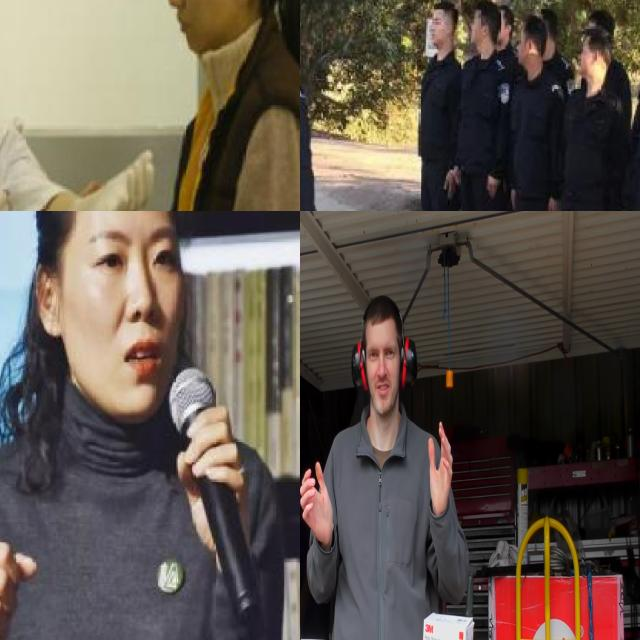Ear-protection: (347, 288, 419, 409)
No_Ear-Protection: (26, 259, 70, 337)
No_Glasses: (77, 223, 185, 281), (367, 341, 397, 368)
face_nomask: (53, 211, 176, 402), (145, 0, 236, 51), (423, 11, 451, 47)
hand_glove: (80, 148, 158, 211)
hand_noglove: (170, 406, 262, 567), (0, 535, 38, 640), (80, 180, 131, 211), (484, 174, 498, 199), (443, 168, 455, 197), (508, 186, 518, 208), (546, 199, 560, 211), (452, 166, 460, 182)
head_nohelmet: (589, 8, 617, 37), (578, 27, 604, 51), (423, 2, 455, 19), (518, 19, 540, 42), (472, 0, 493, 23), (538, 8, 558, 25)
person: (0, 211, 300, 640), (300, 272, 470, 640), (80, 0, 300, 211), (0, 0, 118, 211), (403, 3, 464, 211), (564, 29, 626, 211), (512, 18, 567, 211), (464, 8, 507, 211)
